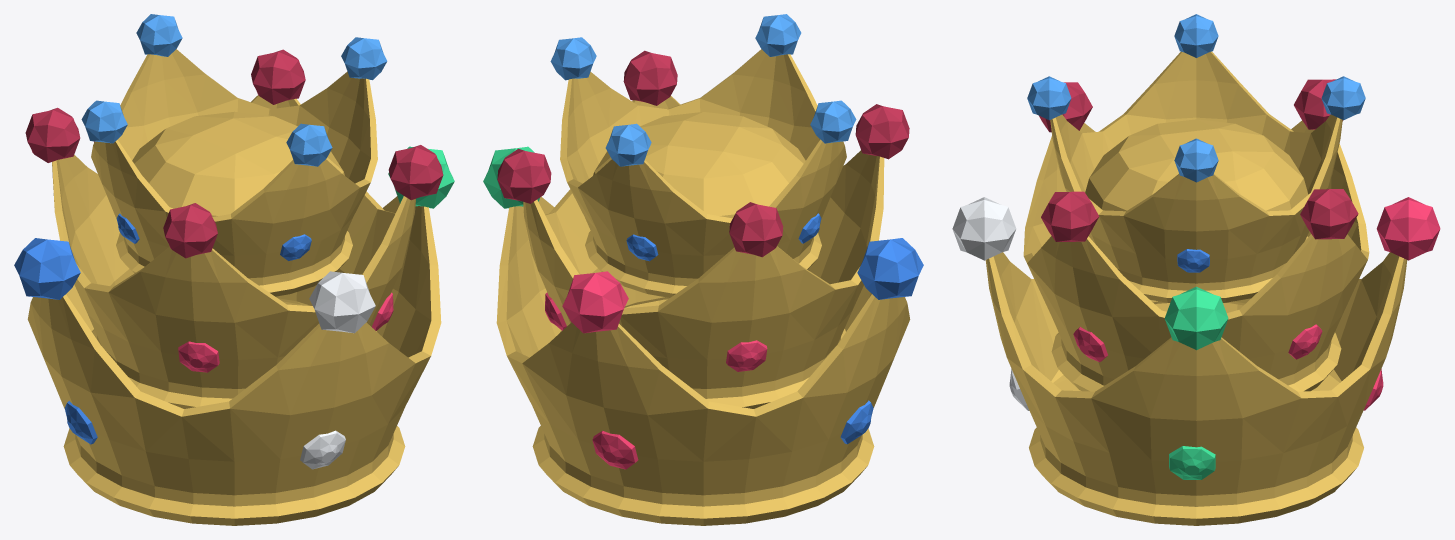
File: Cosmetic_KingCrown.glb
3 renders of one model, left to right at view 1: azimuth 30°, elevation 25°; view 2: azimuth 150°, elevation 25°; view 3: azimuth 270°, elevation 25°, orthographic.
Visible parts, largest first — view 1: Cosmetic_KingCrown_GoldBody, Cosmetic_KingCrown_GemsVC; view 2: Cosmetic_KingCrown_GoldBody, Cosmetic_KingCrown_GemsVC; view 3: Cosmetic_KingCrown_GoldBody, Cosmetic_KingCrown_GemsVC.
Boxes of the visible parts, x1,y1,x2,y2 form: Cosmetic_KingCrown_GoldBody: (27, 49, 441, 525); Cosmetic_KingCrown_GemsVC: (14, 14, 454, 469); Cosmetic_KingCrown_GoldBody: (496, 49, 910, 525); Cosmetic_KingCrown_GemsVC: (483, 14, 923, 469); Cosmetic_KingCrown_GoldBody: (985, 51, 1407, 525); Cosmetic_KingCrown_GemsVC: (952, 14, 1440, 479).
Size of the model in its own units: 0.5497 by 0.4729 by 0.5497.
